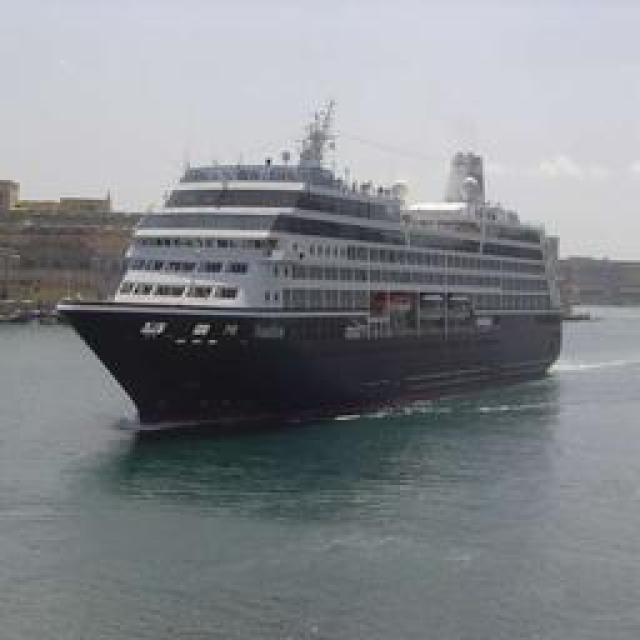Ship: (63, 120, 571, 425)
